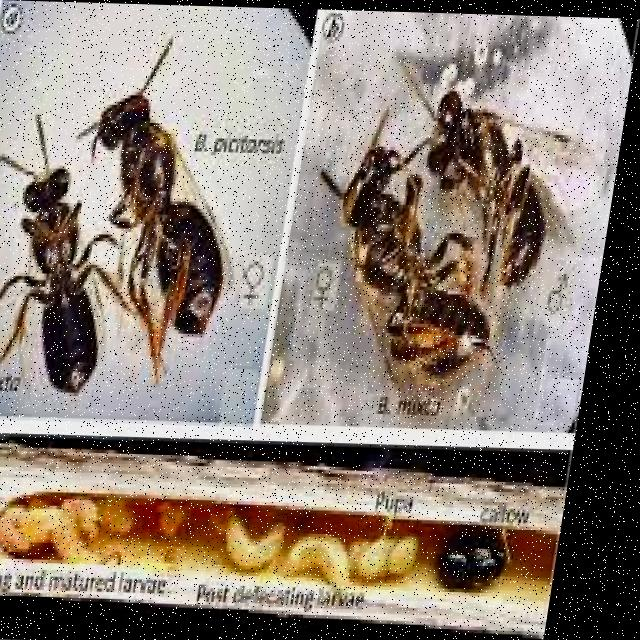Braunsapis: (306, 91, 540, 402), (64, 31, 284, 358), (397, 49, 583, 296), (0, 114, 154, 409)
